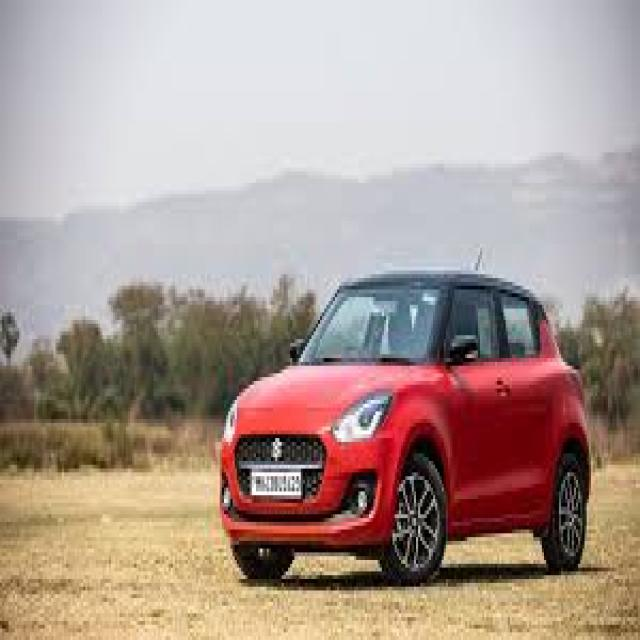cars: (212, 261, 598, 601)
